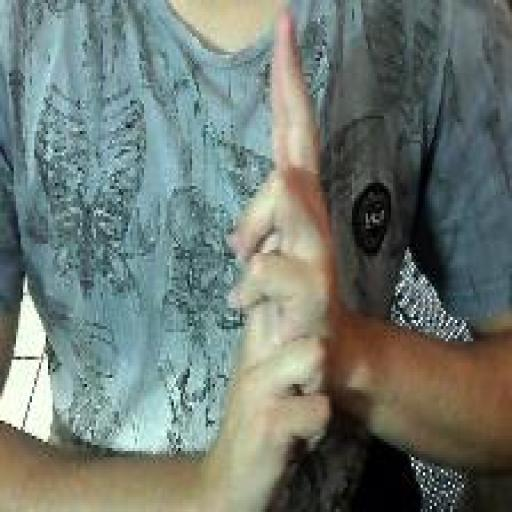Hitsuji -ram-: (225, 4, 340, 508)
